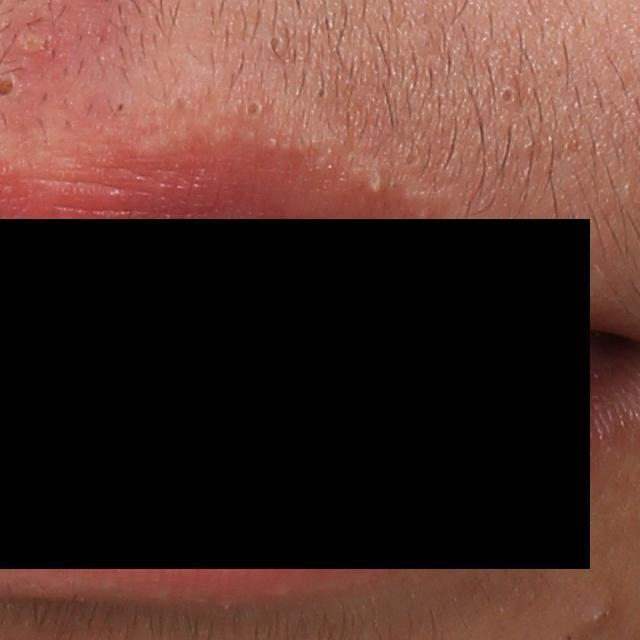comedo: (240, 91, 271, 122), (489, 78, 518, 106), (585, 606, 611, 633), (256, 33, 284, 57), (315, 84, 328, 100)
